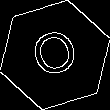O_S: (26, 24, 84, 86)
